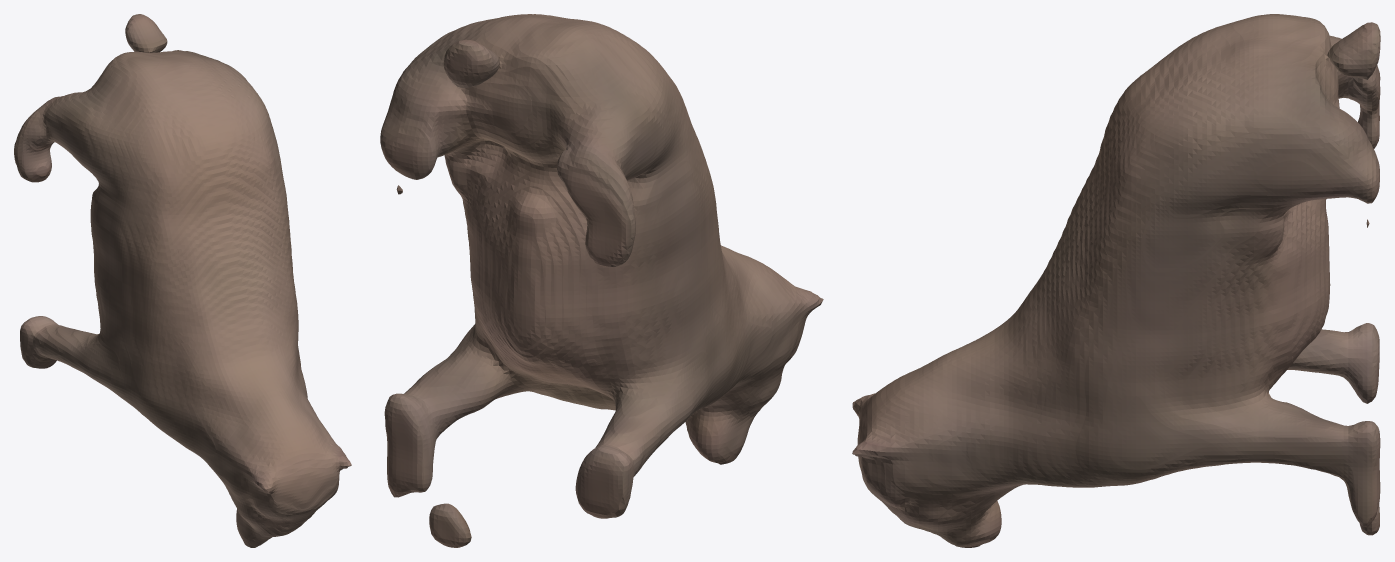
3 renders of one model, left to right at view 1: azimuth 30°, elevation 25°; view 2: azimuth 150°, elevation 25°; view 3: azimuth 270°, elevation 25°, orthographic. The views are drawn at different scales.
Parts seen in each view (by area): view 1: cube_0.obj; view 2: cube_0.obj; view 3: cube_0.obj.
Boxes of the visible parts, bbox=[...] form: cube_0.obj: bbox=[14, 14, 351, 547]; cube_0.obj: bbox=[380, 14, 823, 547]; cube_0.obj: bbox=[852, 14, 1380, 547].
Bounding box in the file's own units: 0.9883 × 1.98 × 1.74.
